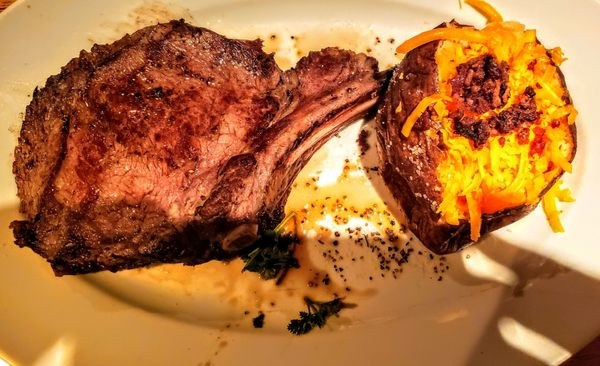soup: (356, 10, 579, 255)
